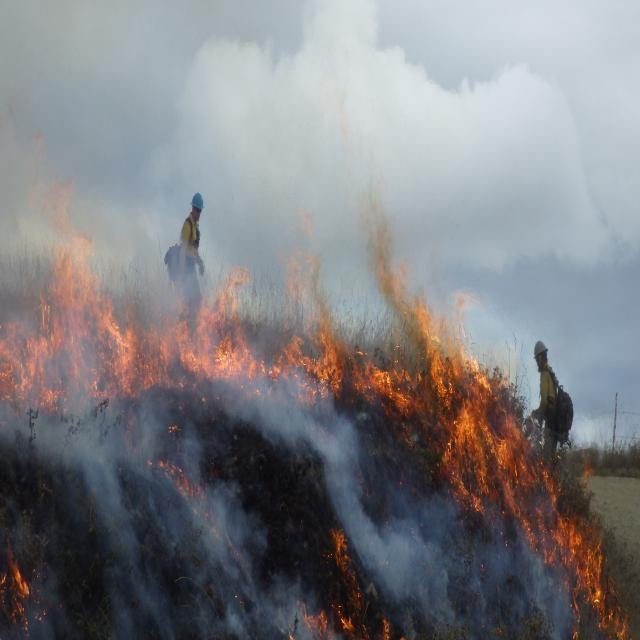Smoke: (1, 364, 320, 638), (210, 364, 438, 612), (396, 470, 582, 635)
